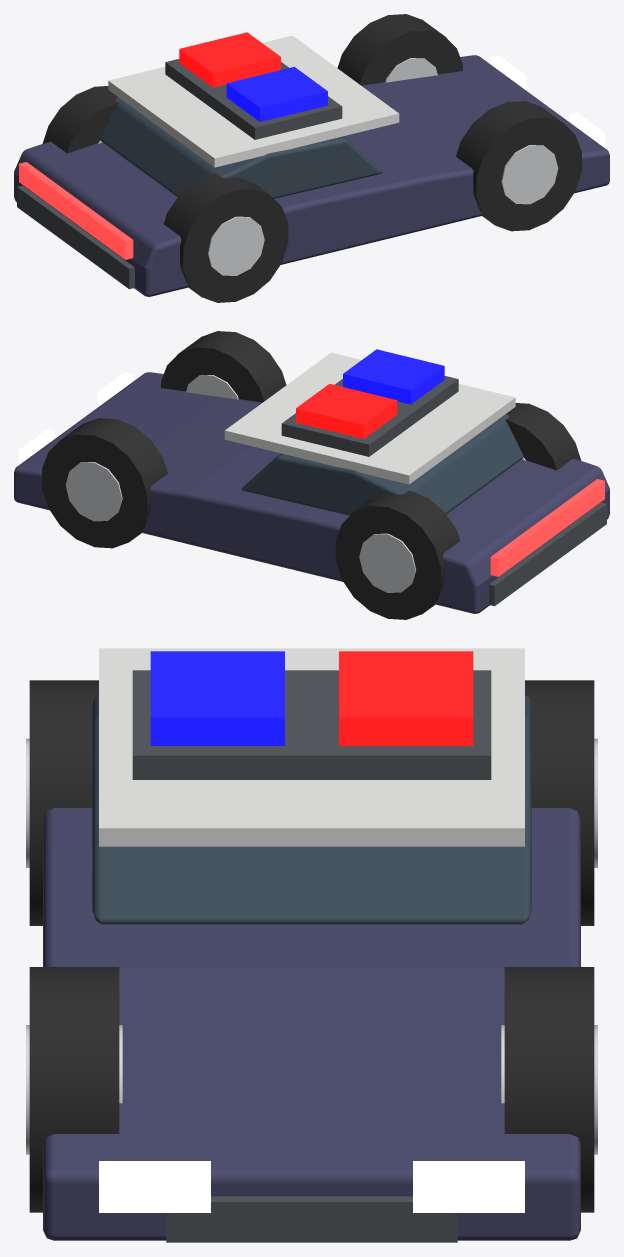
File: police.glb
3 renders of one model, top to bottom at view 1: azimuth 30°, elevation 25°; view 2: azimuth 150°, elevation 25°; view 3: azimuth 270°, elevation 25°, orthographic. The views are drawn at different scales.
Visible parts, largest first — view 1: Body, RoofWhite, Wheel_FR, Wheel_RR, Cabin, Wheel_FL, LightBlue, LightRed, LightBarBase, Wheel_RL, Trim, Taillights (+1 smaller); view 2: Body, RoofWhite, Wheel_FL, Wheel_RL, Cabin, Wheel_FR, LightRed, LightBlue, LightBarBase, Wheel_RR, Trim, Taillights (+1 smaller); view 3: Body, RoofWhite, Cabin, LightBarBase, Wheel_FL, Wheel_FR, LightBlue, LightRed, Trim, Headlights, Wheel_RL, Wheel_RR.
Part boxes in pixels (x1,y1,x2,y2): Body: (14,55,609,296); RoofWhite: (108,35,399,167); Wheel_FR: (456,101,581,231); Wheel_RR: (163,173,288,302); Cabin: (100,97,382,198); Wheel_FL: (337,14,462,85); LightBlue: (226,66,327,121); LightRed: (179,32,280,87); LightBarBase: (165,59,342,139); Wheel_RL: (42,86,118,153); Trim: (17,185,135,289); Taillights: (19,162,133,259); Body: (14,372,609,613); RoofWhite: (224,352,515,484); Wheel_FL: (42,418,167,548); Wheel_RL: (335,490,460,619); Cabin: (241,414,523,515); Wheel_FR: (161,331,286,402); LightRed: (296,383,397,438); LightBlue: (343,349,444,404); LightBarBase: (281,376,458,456); Wheel_RR: (505,403,581,470); Trim: (488,502,606,606); Taillights: (490,479,604,576); Body: (43,808,580,1240); RoofWhite: (99,648,524,846); Cabin: (92,695,531,924); LightBarBase: (132,670,491,779); Wheel_FL: (501,967,597,1212); Wheel_FR: (26,967,122,1212); LightBlue: (150,651,284,745); LightRed: (339,651,473,745); Trim: (166,1196,457,1242); Headlights: (99,1161,524,1212); Wheel_RL: (525,680,597,925); Wheel_RR: (26,680,98,925).
Size of the model in its own units: 49.4 by 15.6 by 25.5.
